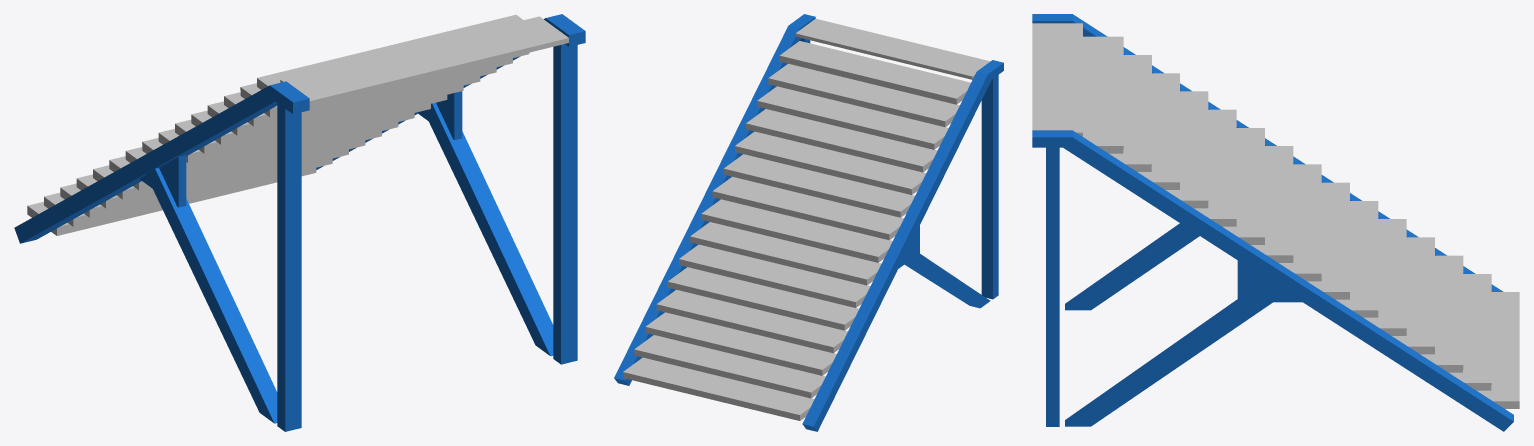
File: SM_large_podium1.fbx
3 views of the same model, side by side, from view 1: azimuth 30°, elevation 25°; view 2: azimuth 150°, elevation 25°; view 3: azimuth 270°, elevation 25° (orthographic). The views are drawn at different scales.
Visible parts, largest first — view 1: large_podium1; view 2: large_podium1; view 3: large_podium1.
Boxes of the visible parts, x1=… form: large_podium1: x1=14, y1=14, x2=585, y2=431; large_podium1: x1=614, y1=14, x2=1003, y2=431; large_podium1: x1=1032, y1=14, x2=1519, y2=431.
Bounding box in the file's own units: 186 × 207 × 310.
